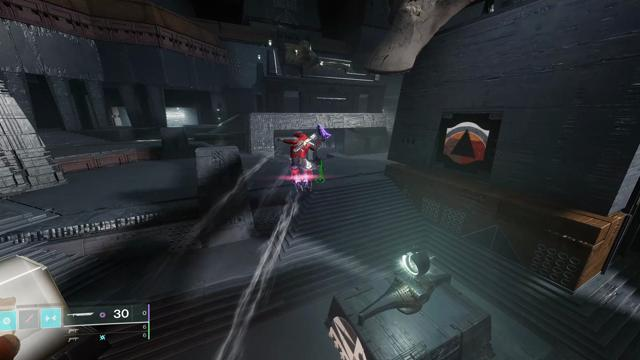pyramid: (443, 122, 489, 165)
